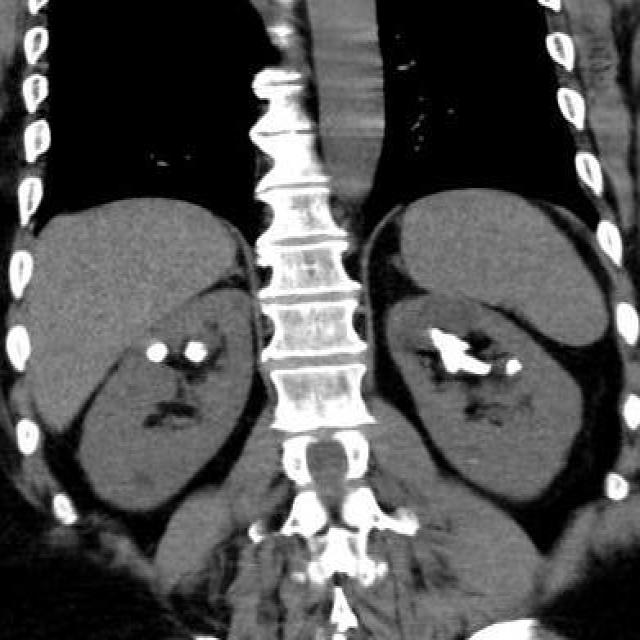Tas_Var: (428, 324, 494, 388), (180, 336, 213, 370), (141, 338, 172, 366), (505, 358, 525, 372), (505, 369, 516, 377)
